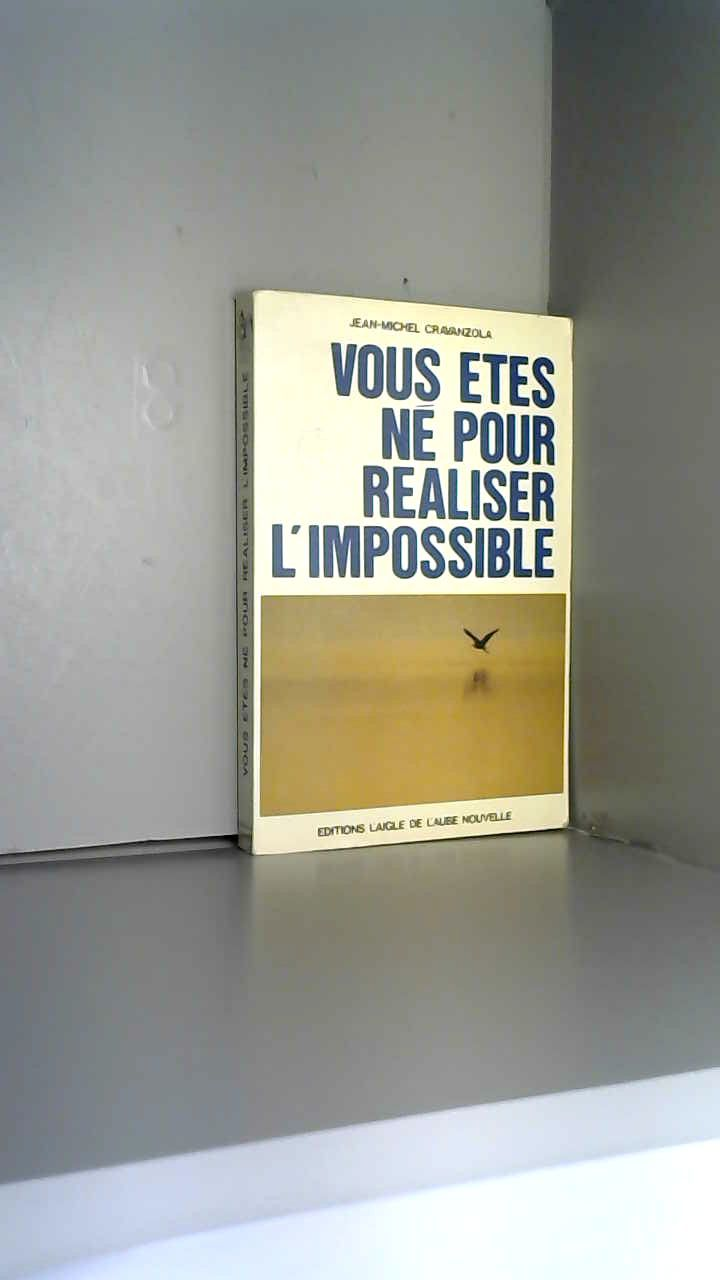book: (215, 272, 593, 870)
